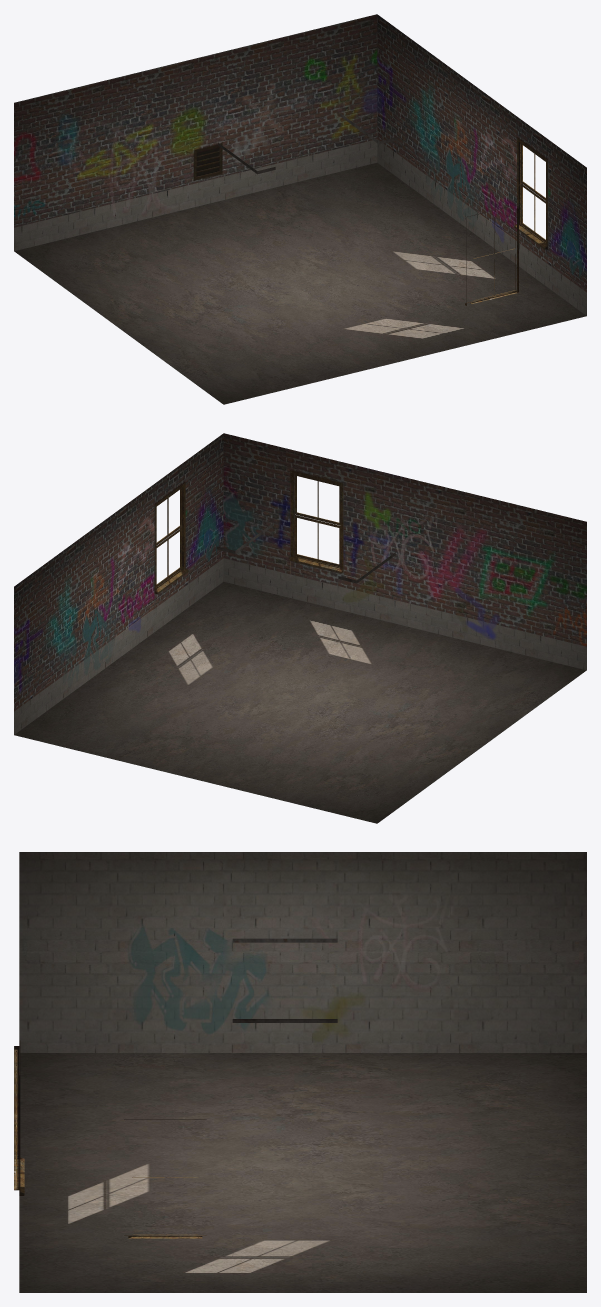
The model's file is roooooom.glb.
3 renders of one model, top to bottom at view 1: azimuth 30°, elevation 25°; view 2: azimuth 150°, elevation 25°; view 3: azimuth 270°, elevation 25°, orthographic. The views are drawn at different scales.
Parts seen in each view (by area): view 1: Object_2; view 2: Object_2; view 3: Object_2.
Part boxes in pixels (x1,y1,x2,y2): Object_2: (14,14,586,404); Object_2: (14,433,586,823); Object_2: (14,852,586,1292).
Bounding box in the file's own units: 9.96 × 3.85 × 9.96.
1 material, 1 textured.
